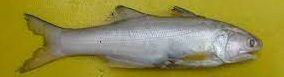Fourfinger Threadfish: (19, 4, 263, 76)
